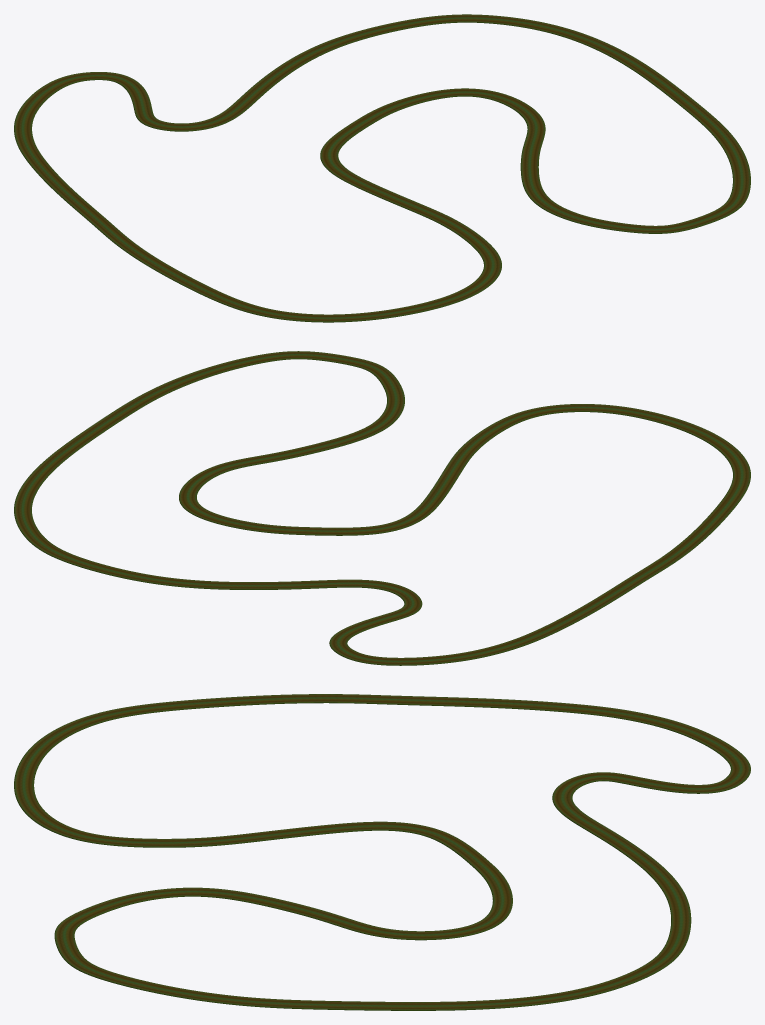
File: road.fbx
The picture shows the model from 3 angles, top to bottom: view 1: azimuth 30°, elevation 25°; view 2: azimuth 150°, elevation 25°; view 3: azimuth 270°, elevation 25°; orthographic projection. The views are drawn at different scales.
Parts seen in each view (by area): view 1: road; view 2: road; view 3: road.
Boxes of the visible parts, x1,y1,x2,y2 form: road: (14, 14, 750, 322); road: (14, 351, 750, 665); road: (14, 694, 750, 1010).
Bounding box in the file's own units: 16447 × 39.91 × 16192.
